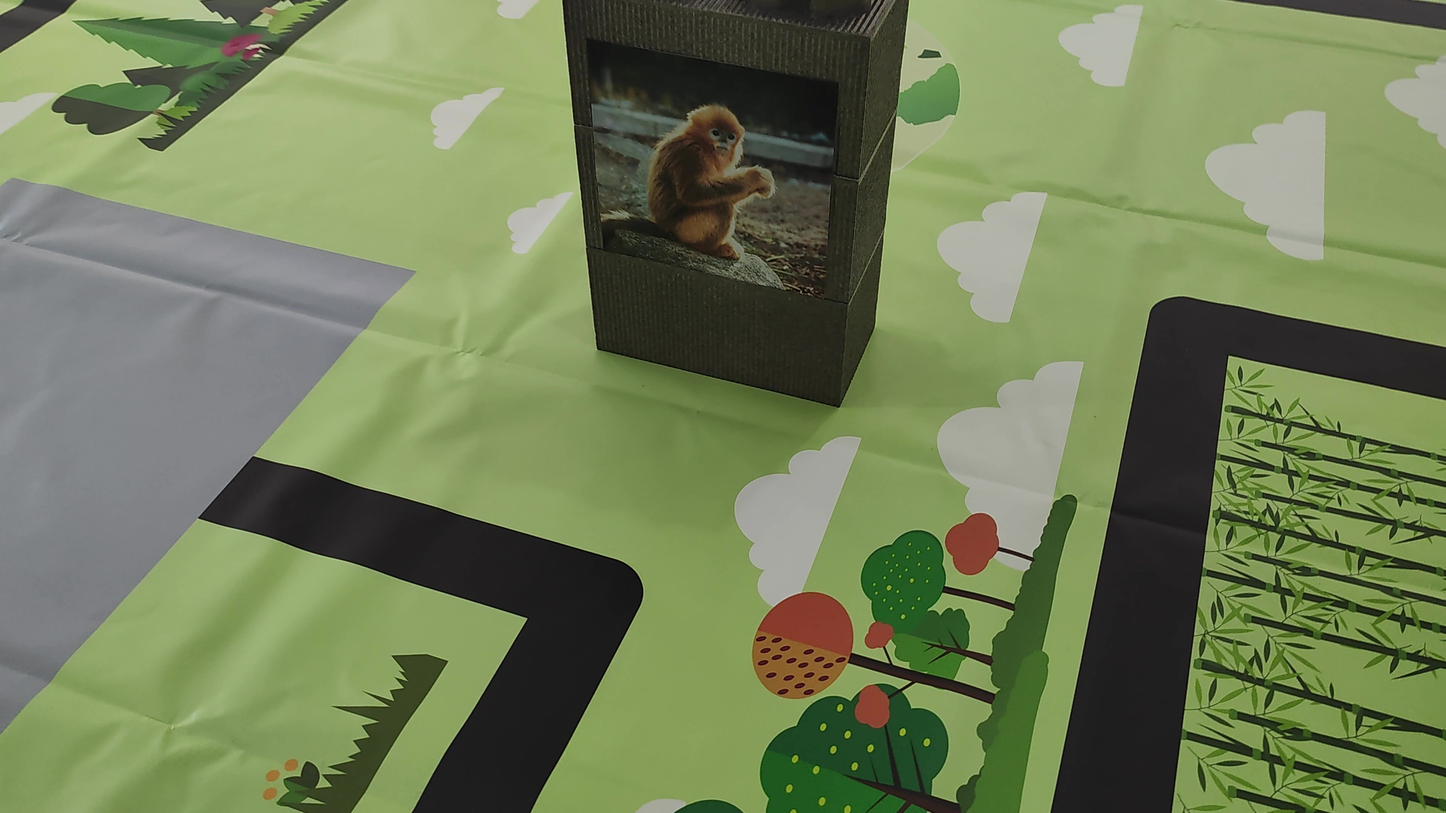monkey: (601, 76, 796, 273)
